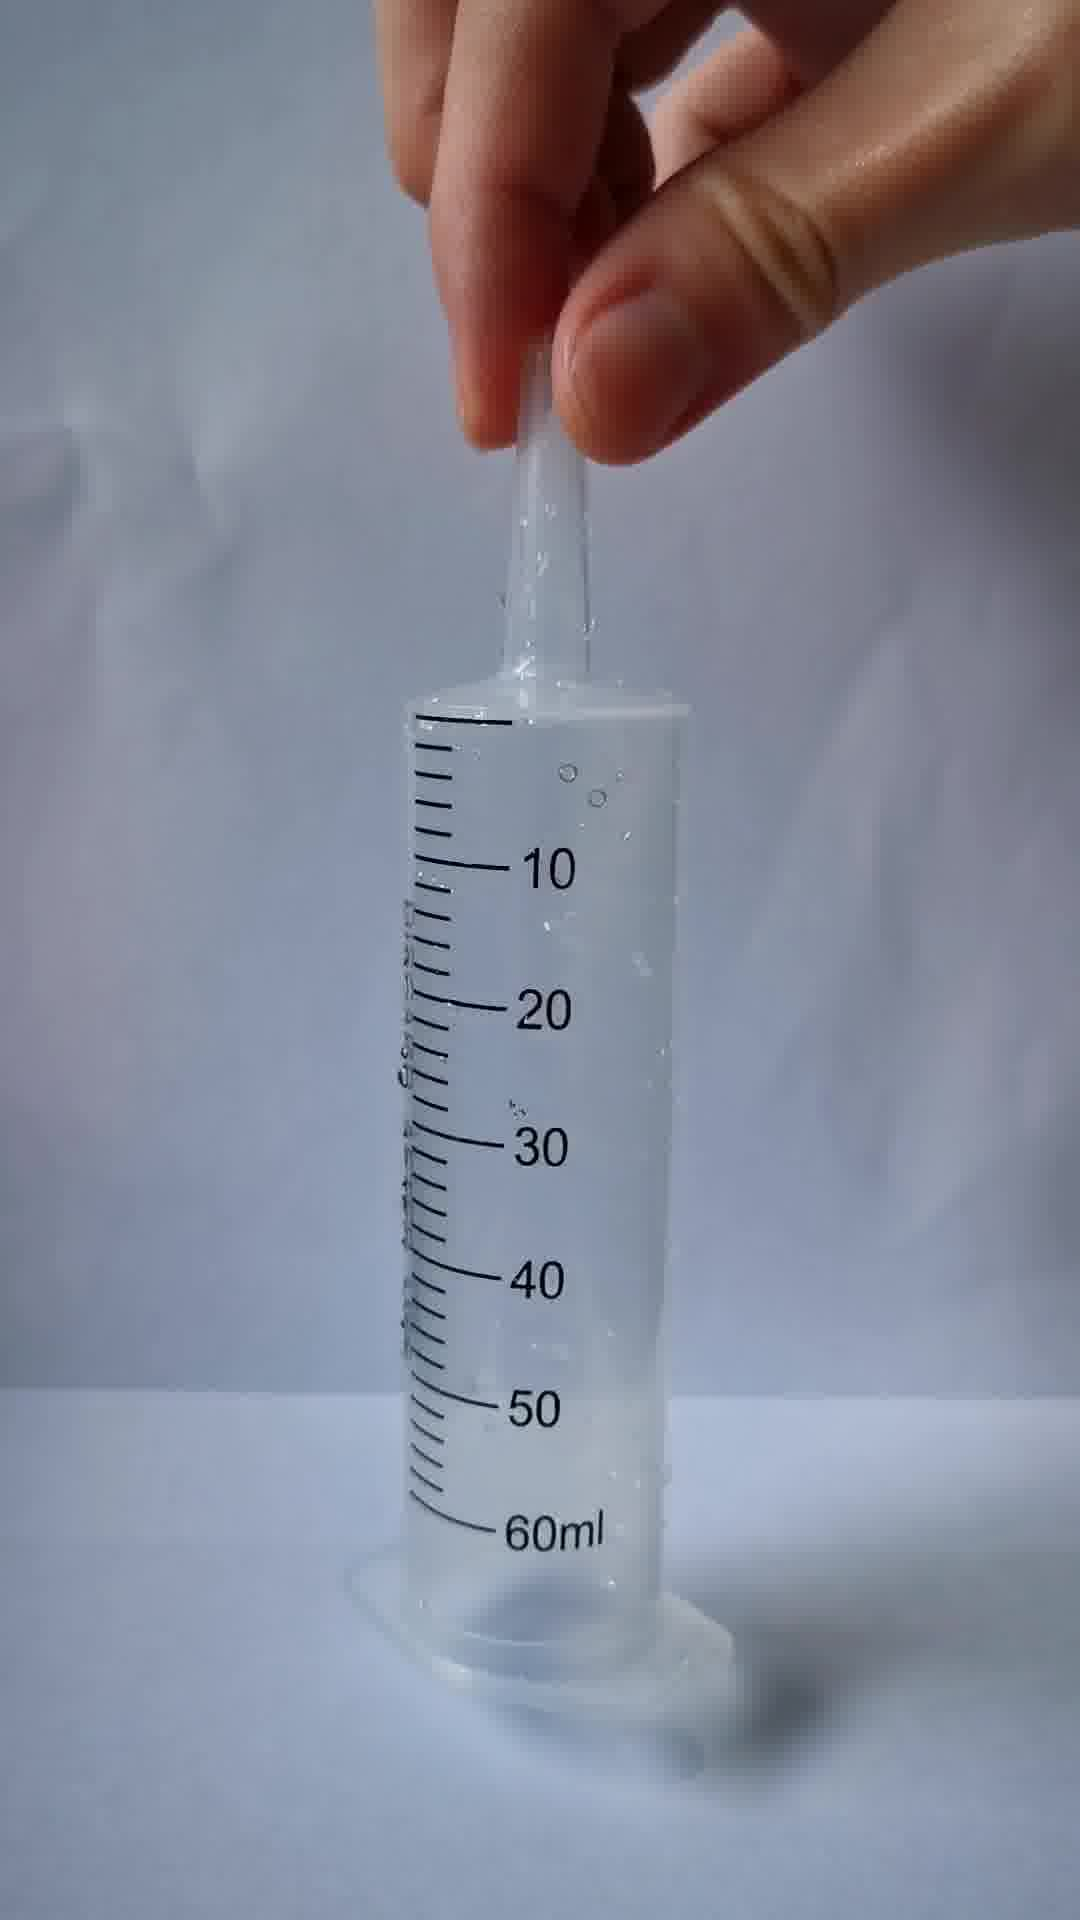syringe: (338, 344, 742, 1720)
